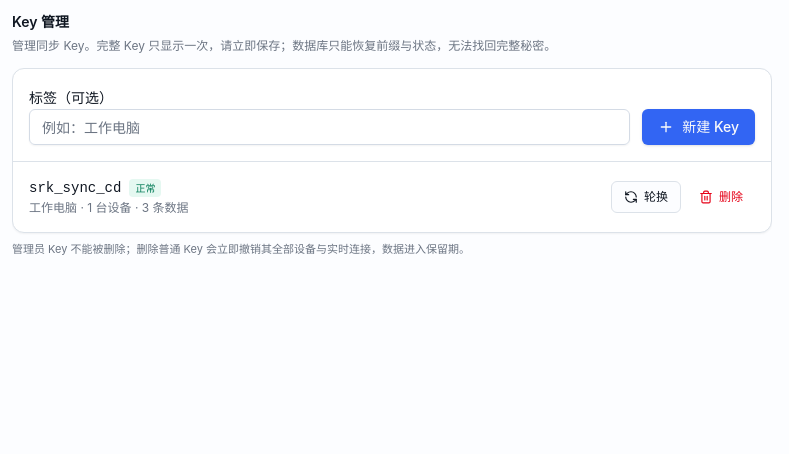
it: AdminKeysView › reveals a new Key secret exactly once with copy and download affordances
This screenshot has width=789, height=454.
Click the button "新建 Key". click: {"x": 699, "y": 127}
box: 642,109 -> 755,145
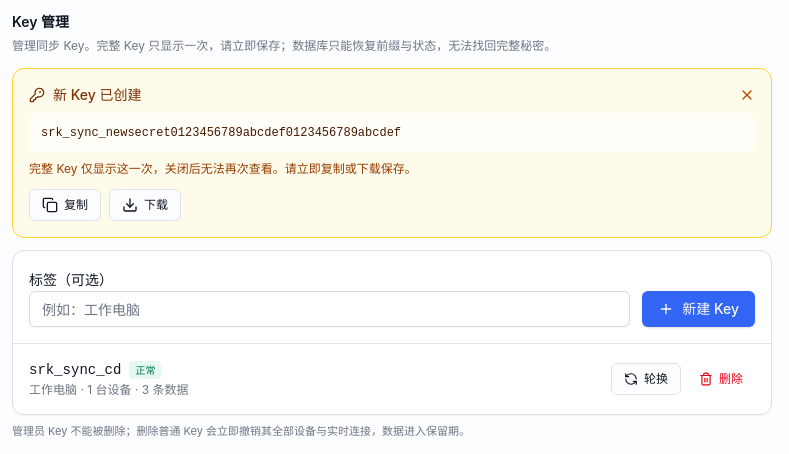
Result: the text "srk_sync_newsecret0123456789abcdef0123456789abcdef" is shown at 29,113 -> 755,153
Result: the button "复制" is shown at 29,189 -> 101,221
Result: the button "下载" is shown at 109,189 -> 181,221
